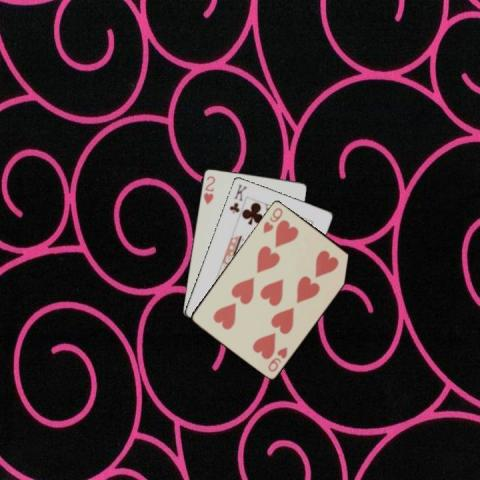2h: (201, 173, 216, 205)
9h: (260, 204, 284, 235), (264, 344, 288, 373)
Kc: (226, 180, 248, 214)
